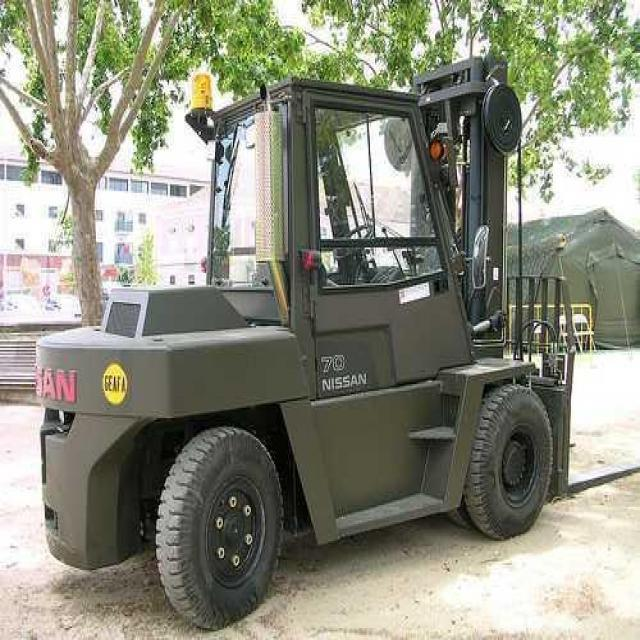forklift: (35, 50, 639, 628)
